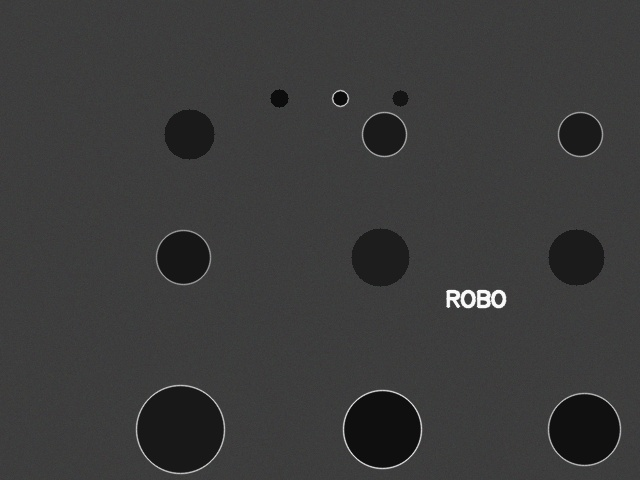hole: (136, 385, 224, 473), (343, 390, 421, 468), (548, 393, 620, 465), (351, 228, 409, 286), (548, 229, 604, 285), (156, 230, 210, 284), (164, 109, 214, 159), (362, 112, 406, 156), (558, 112, 602, 156), (270, 89, 288, 107), (332, 90, 348, 106), (392, 90, 408, 106)
